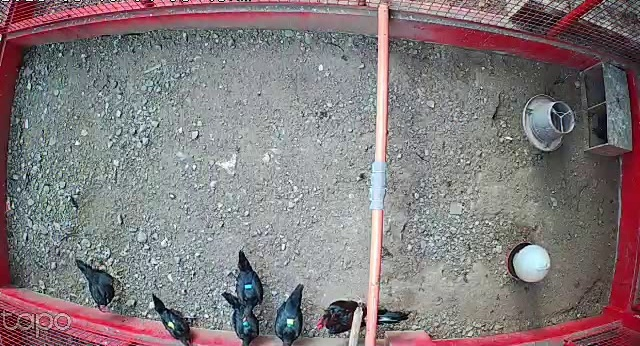Chicken: (145, 289, 199, 346), (72, 258, 127, 313), (271, 278, 313, 346), (236, 245, 272, 321), (218, 288, 265, 346)
Rooster: (314, 295, 412, 339)
Saddle_Color_Blue: (244, 284, 253, 290)
Saddle_Color_Green: (242, 320, 247, 326)
Saddle_Color_Yellow: (169, 320, 177, 330)
Saddle_Color_YellowGreen: (285, 319, 295, 329)
